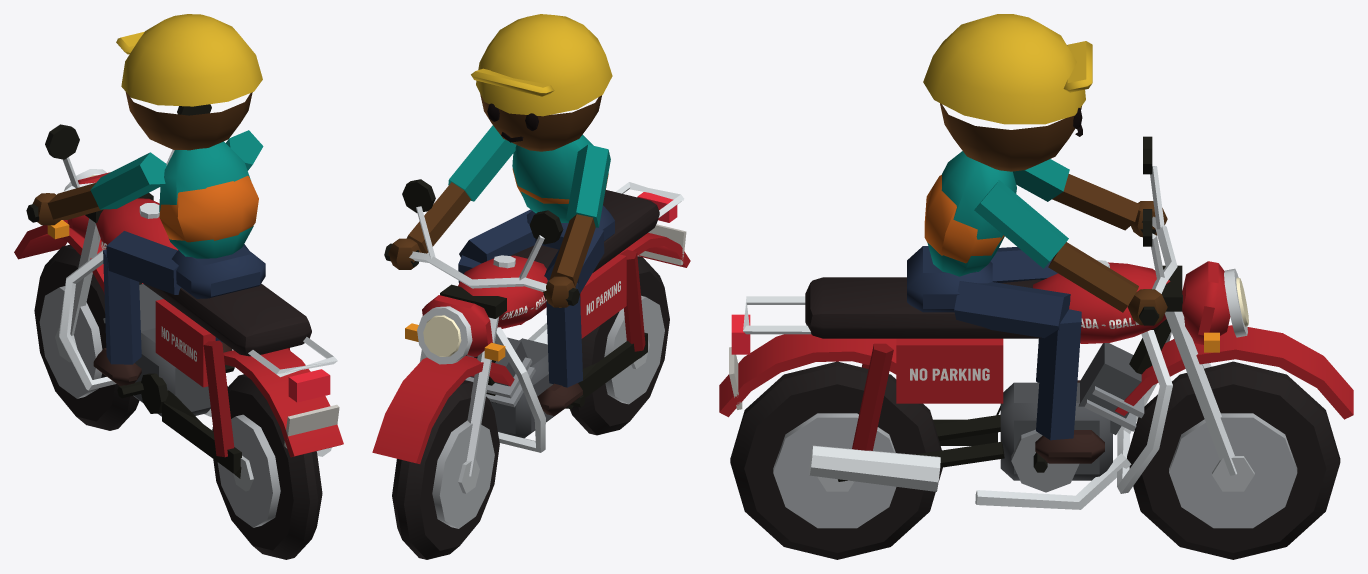
The model's file is okada.glb.
3 renders of one model, left to right at view 1: azimuth 30°, elevation 25°; view 2: azimuth 150°, elevation 25°; view 3: azimuth 270°, elevation 25°, orthographic. The views are drawn at different scales.
Visible parts, largest first — view 1: rider, okada_body, wheel_R, wheel_F; view 2: okada_body, rider, wheel_F, wheel_R, okada_decals; view 3: okada_body, rider, wheel_F, wheel_R, okada_decals.
Boxes of the visible parts, bbox=[...] form: rider: bbox=[32, 14, 265, 385]; okada_body: bbox=[14, 104, 343, 478]; wheel_R: bbox=[212, 374, 322, 559]; wheel_F: bbox=[34, 244, 139, 430]; okada_body: bbox=[372, 179, 690, 476]; rider: bbox=[388, 14, 614, 415]; wheel_F: bbox=[392, 380, 499, 559]; wheel_R: bbox=[570, 256, 669, 435]; okada_decals: bbox=[500, 281, 620, 319]; okada_body: bbox=[719, 136, 1353, 509]; rider: bbox=[907, 14, 1167, 463]; wheel_F: bbox=[1127, 361, 1340, 559]; wheel_R: bbox=[730, 361, 942, 559]; okada_decals: bbox=[910, 317, 1138, 380].
Bounding box in the file's own units: 0.94 × 2.21 × 2.37.
Materials: 3 (1 with a texture image).
